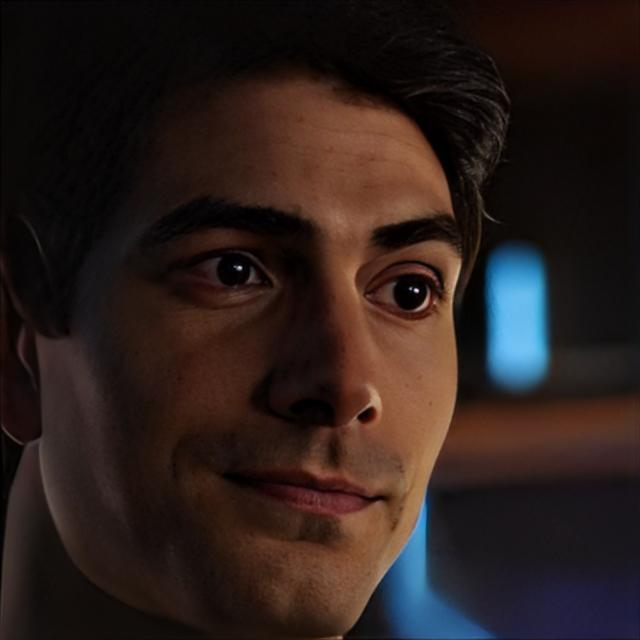surprise: (43, 81, 469, 640)
